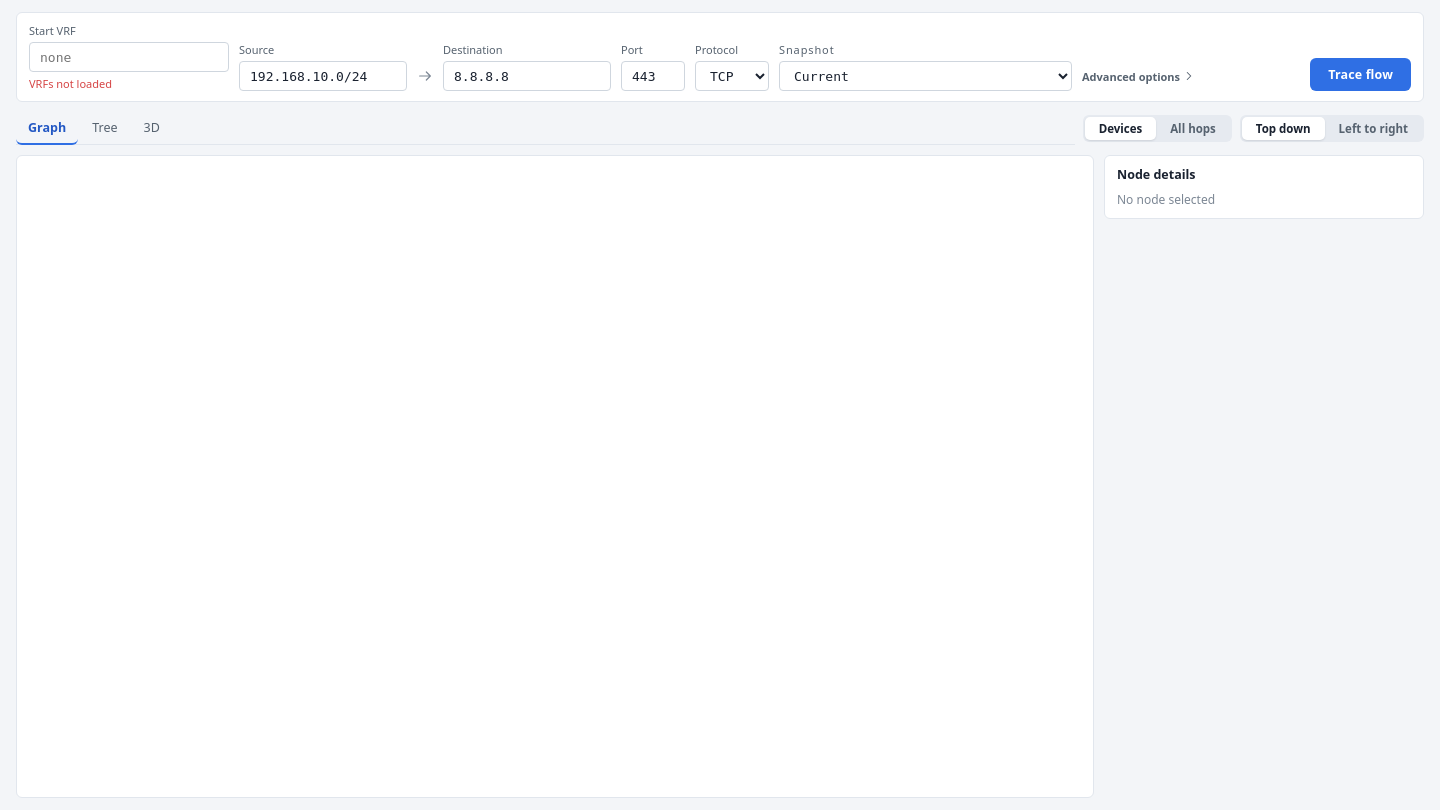
Test case: TracePage: trace mode wiring › partition fixture: lane caps carry no caption and no address slice
Click the button "Trace flow" at point(1361, 74), box [1310,58,1411,91]
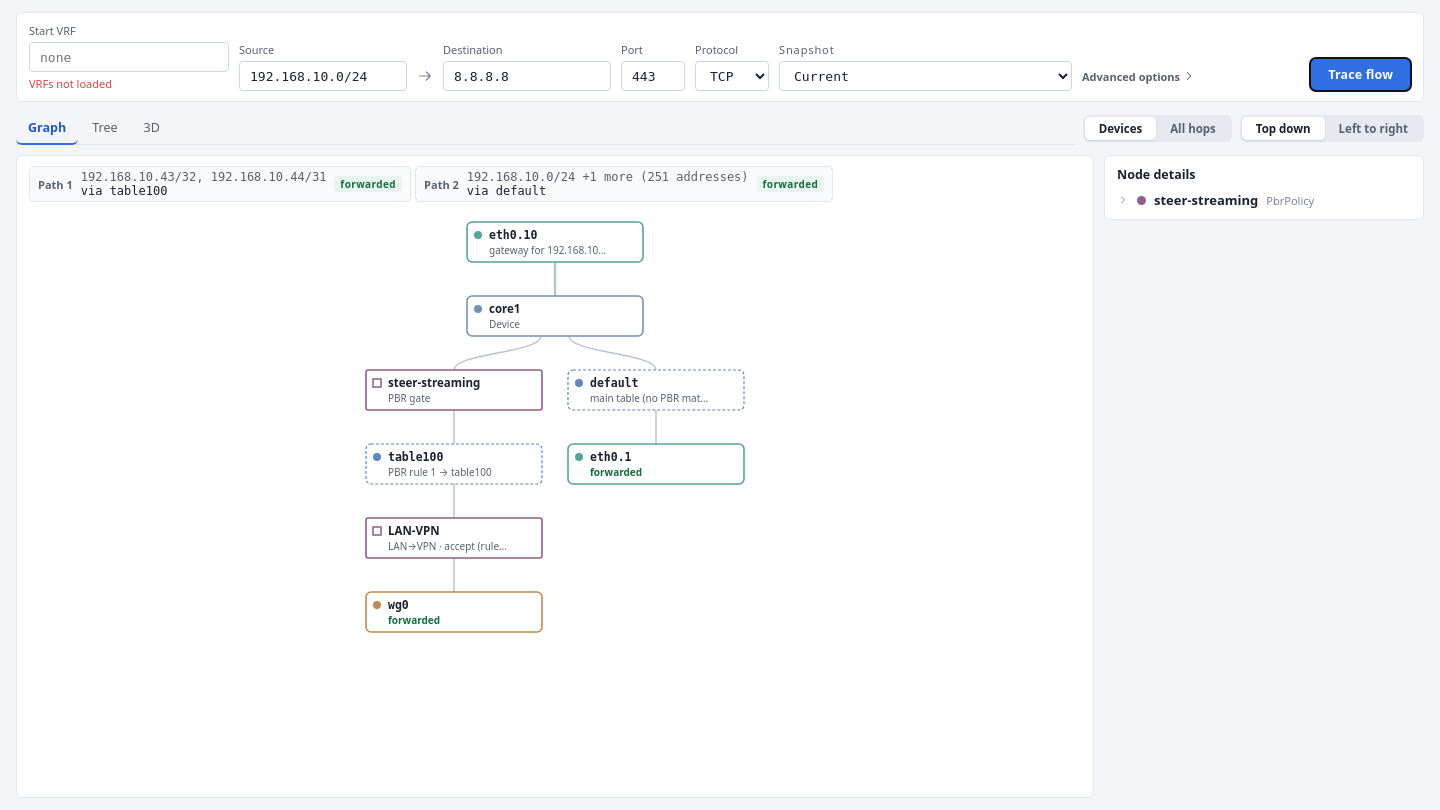
Click the button "steer-streaming PbrPolicy" at point(1264, 200), box [1117,191,1411,209]
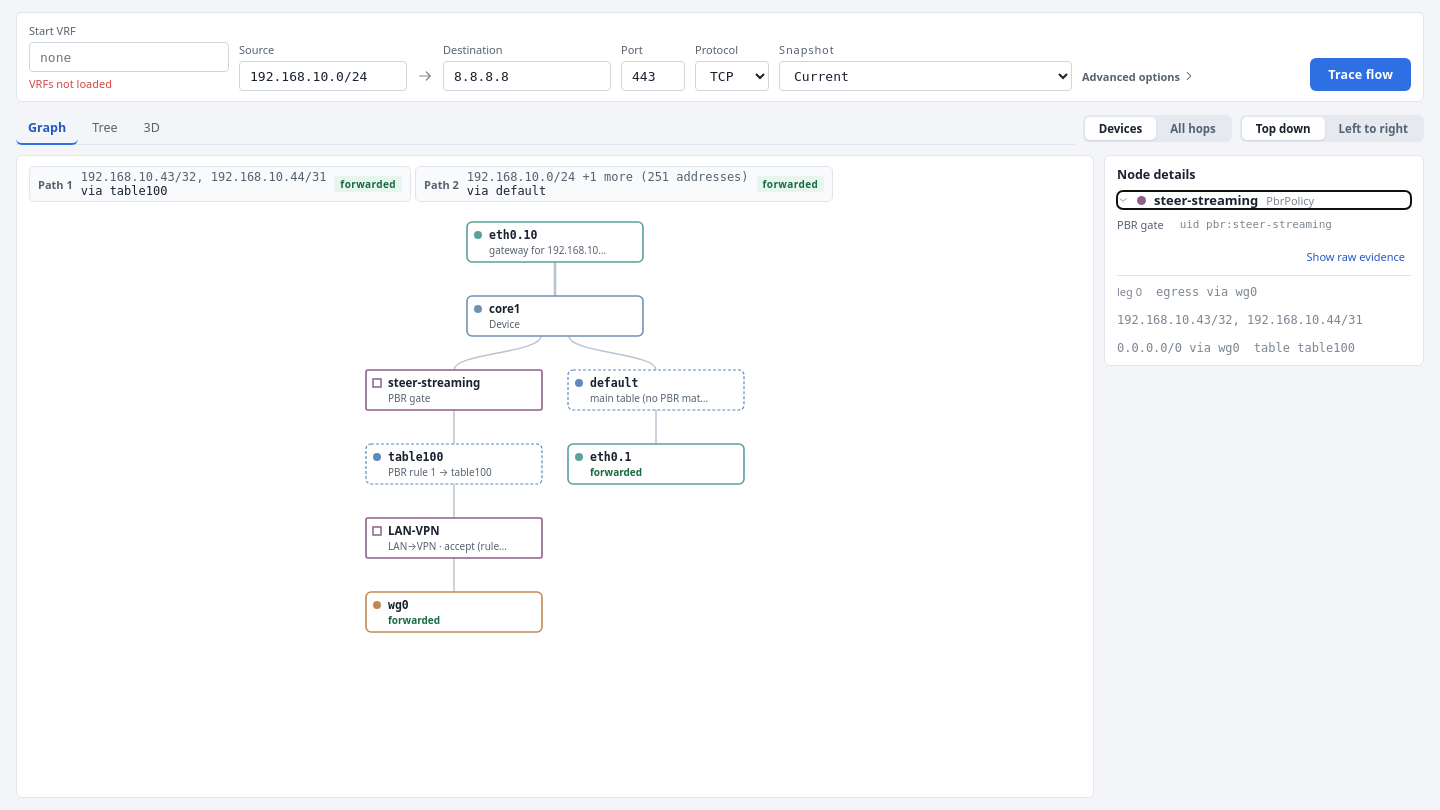
Expected: the text "leg 0" is shown, [1117,284,1142,299]
Expected: the text "192.168.10.43/32, 192.168.10.44/31" below "leg" is shown, [1117,313,1363,327]
